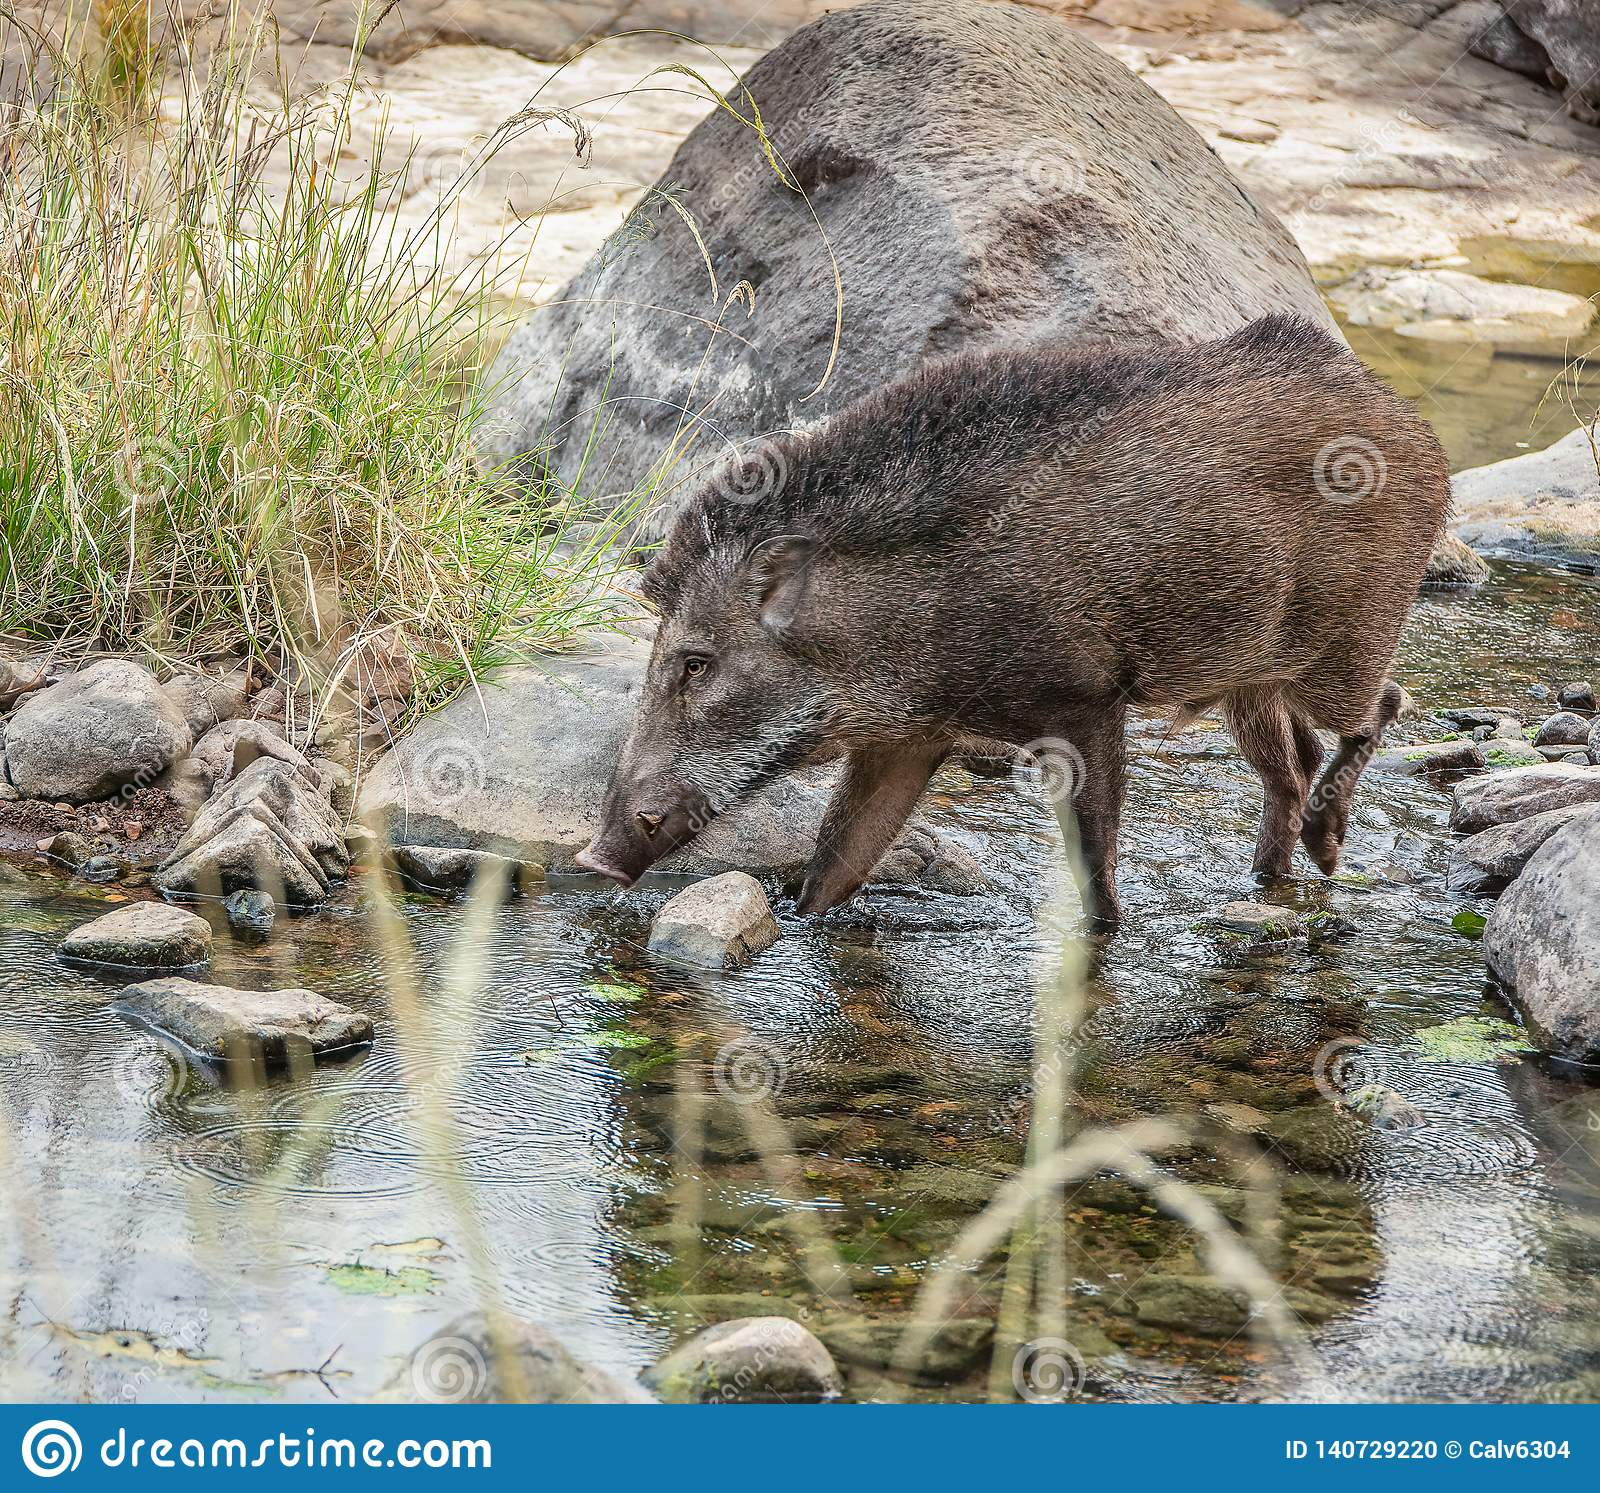wild boar: (561, 307, 1476, 979)
